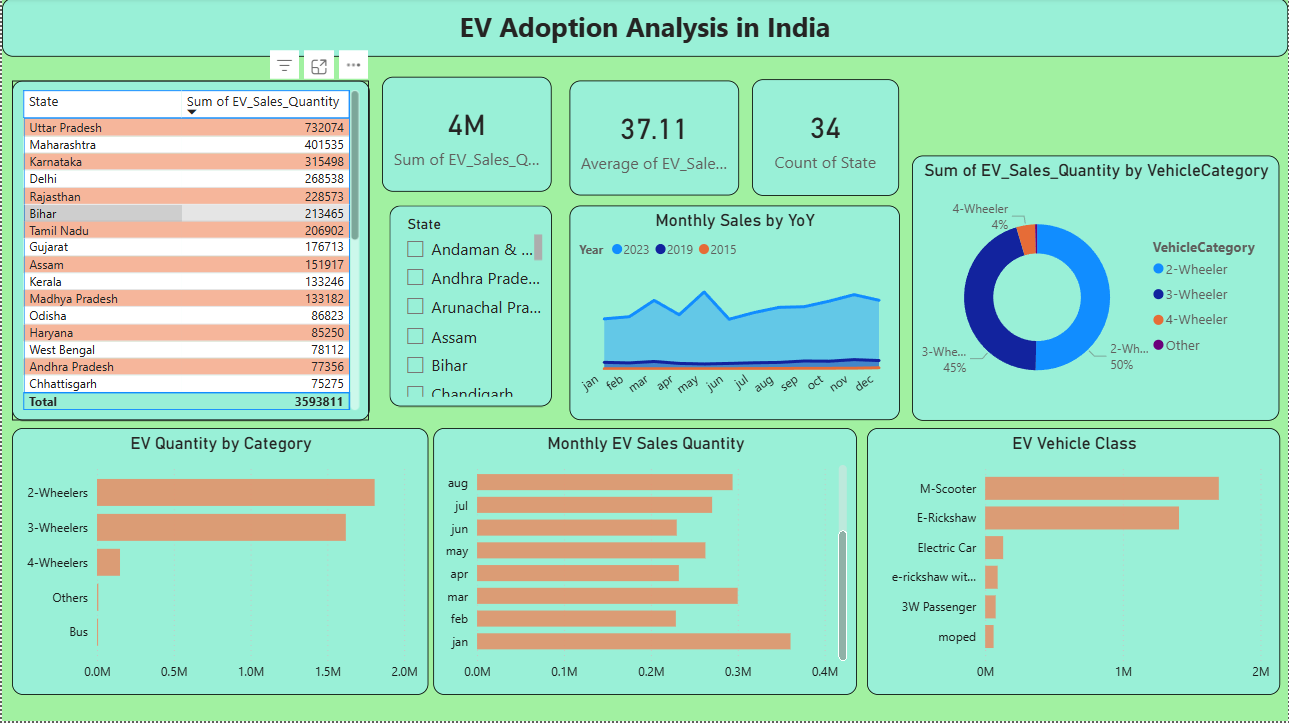

What the dashboard file says about the page in this screenshot:
{"tool":"powerbi","page":{"name":"Page 1","canvas":[1280,720],"ordinal":0},"visuals":[{"type":"clusteredBarChart","title":"EV Quantity by Category","fields":{"Category":["Electric_Vehicle_Sales_India.Vehicle_Category"],"Y":["Sum(Electric_Vehicle_Sales_India.EV_Sales_Quantity)"]},"box":[9.8,428,414.6,265.9],"z":0},{"type":"clusteredBarChart","title":"Monthly EV Sales Quantity","fields":{"Category":["Electric_Vehicle_Sales_India.Month"],"Y":["Sum(Electric_Vehicle_Sales_India.EV_Sales_Quantity)"]},"box":[429.3,428,422,265.9],"z":1000},{"type":"clusteredBarChart","title":"EV Vehicle Class","fields":{"Category":["Electric_Vehicle_Sales_India.VehicleclassClean"],"Y":["Sum(Electric_Vehicle_Sales_India.EV_Sales_Quantity)"]},"box":[861,428,411,265.9],"z":2000},{"type":"areaChart","title":"Monthly Sales by YoY","fields":{"Y":["Sum(Electric_Vehicle_Sales_India.EV_Sales_Quantity)"],"Series":["Electric_Vehicle_Sales_India.Date.Variation.Date Hierarchy.Year"],"Category":["Electric_Vehicle_Sales_India.Month"]},"box":[564.8,206.5,328.4,214],"z":3000},{"type":"donutChart","fields":{"Category":["Electric_Vehicle_Sales_India.VehicleCategory"],"Y":["Sum(Electric_Vehicle_Sales_India.EV_Sales_Quantity)"]},"box":[905.6,156.7,365.7,263.7],"z":3002},{"type":"slicer","fields":{"Values":["Electric_Vehicle_Sales_India.State"]},"box":[385.6,206.5,161.7,200.3],"z":3003},{"type":"textbox","box":[0,0,1280,58.5],"z":3004},{"type":"card","title":"EVs Sold ","fields":{"Values":["Sum(Electric_Vehicle_Sales_India.EV_Sales_Quantity)"]},"box":[378.2,78.4,169.2,114.4],"z":3005},{"type":"card","fields":{"Values":["Count(Electric_Vehicle_Sales_India.State)"]},"box":[746.4,80.9,146.8,115.7],"z":3006},{"type":"card","title":"EVs Sold ","fields":{"Values":["Avg(Electric_Vehicle_Sales_India.EV_Sales_Quantity)"]},"box":[564.8,82.1,169.2,114.4],"z":3007},{"type":"tableEx","fields":{"Values":["Electric_Vehicle_Sales_India.State","Sum(Electric_Vehicle_Sales_India.EV_Sales_Quantity)"]},"box":[10,82.1,355.8,338.4],"z":3008}]}

Visuals, with their boxes in screenshot pixels (x1, y1, x2, y2), scaled from the page's 1280x720 canvas onto the 1289x723 screenshot:
"EV Quantity by Category" clusteredBarChart: 10:430:427:697
"Monthly EV Sales Quantity" clusteredBarChart: 432:430:857:697
"EV Vehicle Class" clusteredBarChart: 867:430:1281:697
"Monthly Sales by YoY" areaChart: 569:207:899:422
donutChart - Electric_Vehicle_Sales_India.VehicleCategory x Sum(Electric_Vehicle_Sales_India.EV_Sales_Quantity): 912:157:1280:422
slicer - Electric_Vehicle_Sales_India.State: 388:207:551:408
textbox: 0:0:1288:59
"EVs Sold " card: 381:79:551:194
card - Count(Electric_Vehicle_Sales_India.State): 752:81:899:197
"EVs Sold " card: 569:82:739:197
tableEx - Electric_Vehicle_Sales_India.State x Sum(Electric_Vehicle_Sales_India.EV_Sales_Quantity): 10:82:368:422
